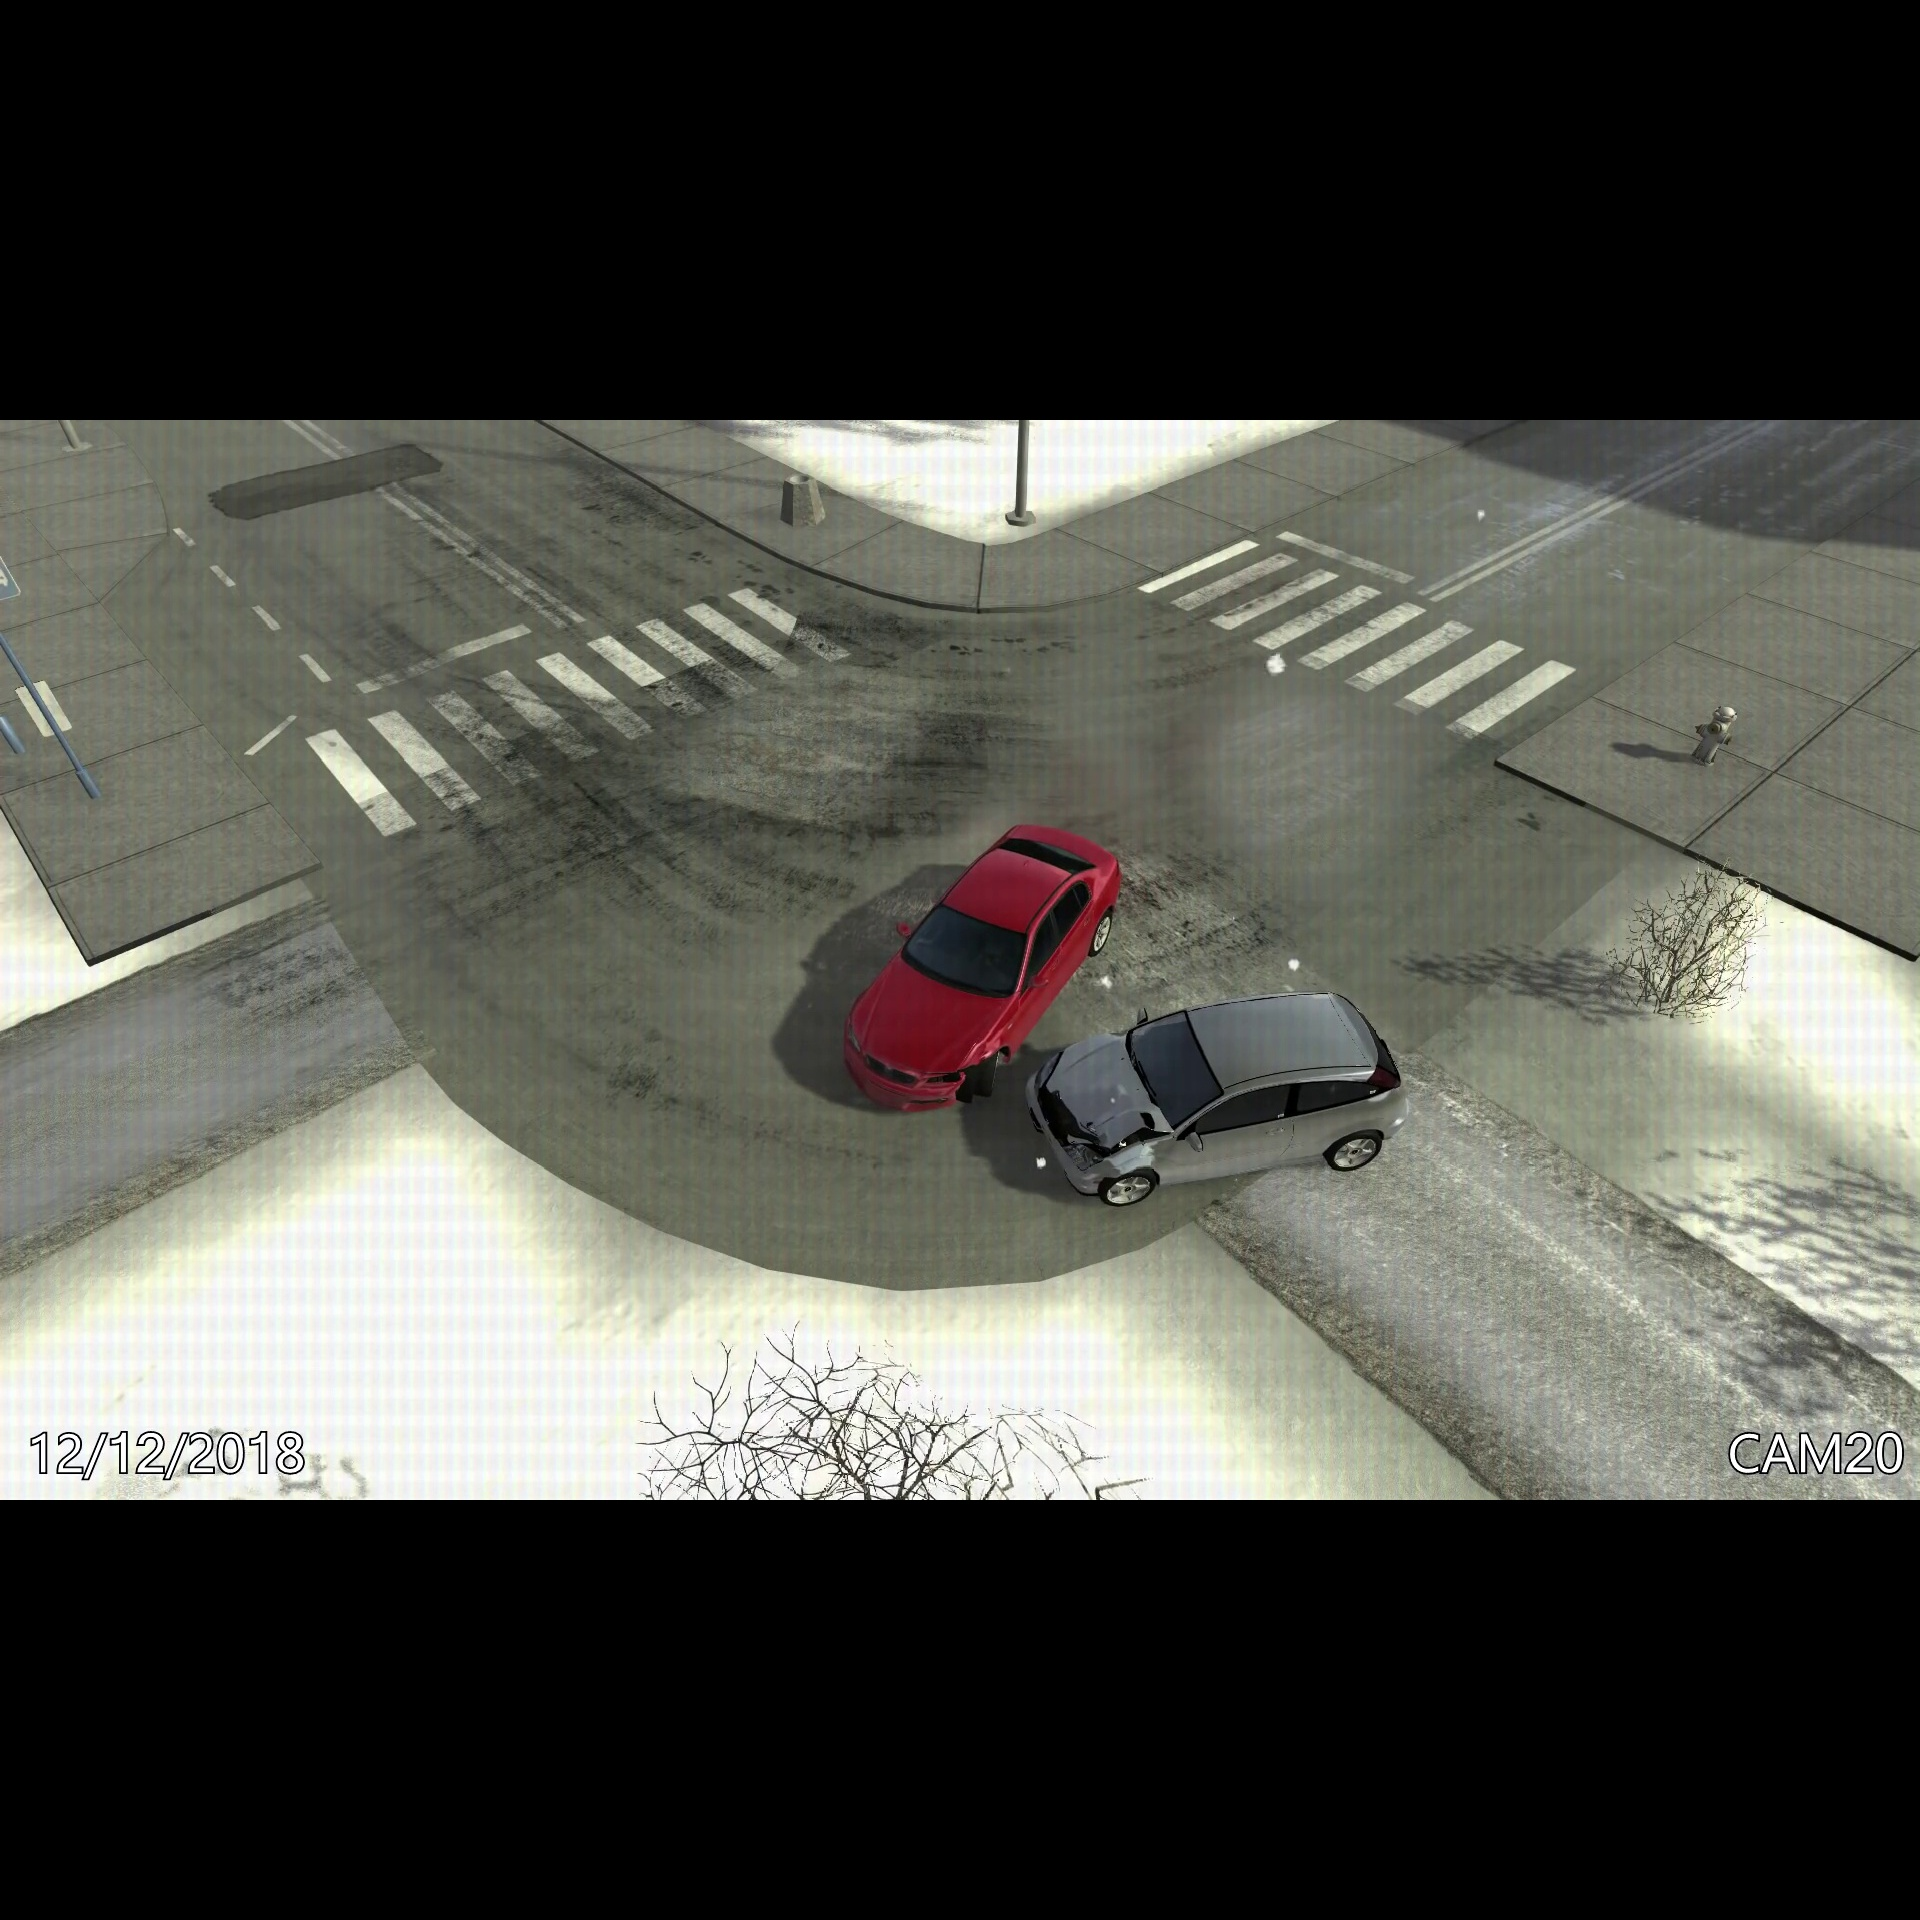vehicle: (1016, 986, 1412, 1215), (832, 814, 1136, 1109)
